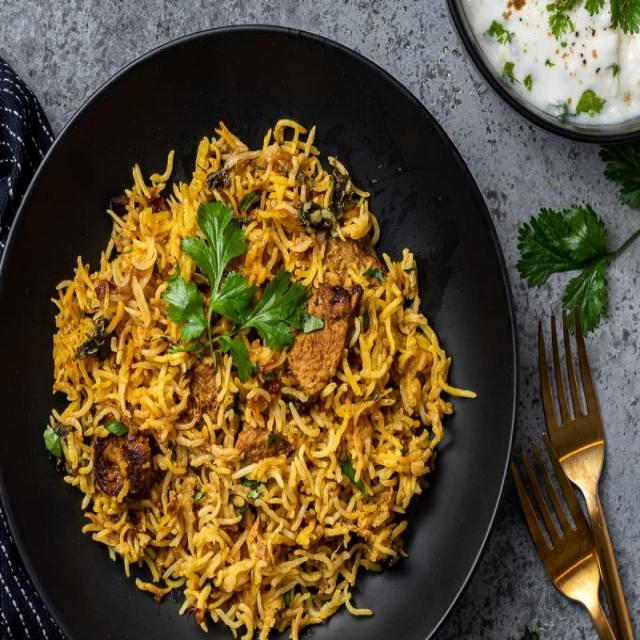Biryani: (38, 114, 450, 639)
